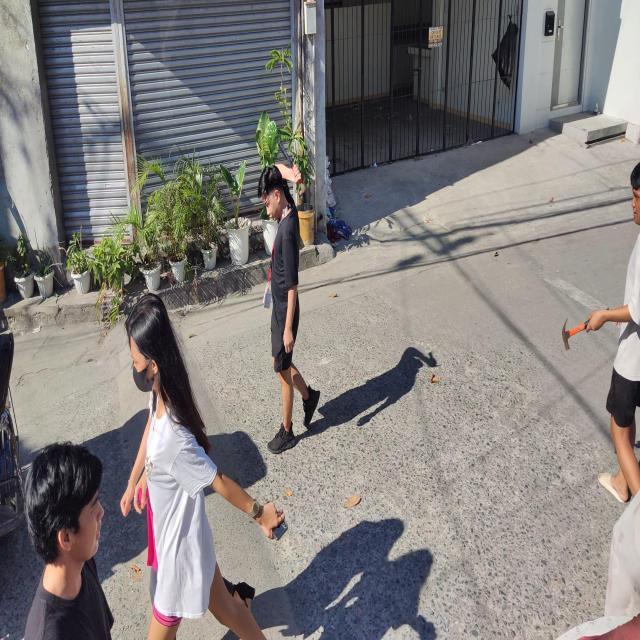hammer: (562, 308, 609, 351), (278, 140, 306, 197)
